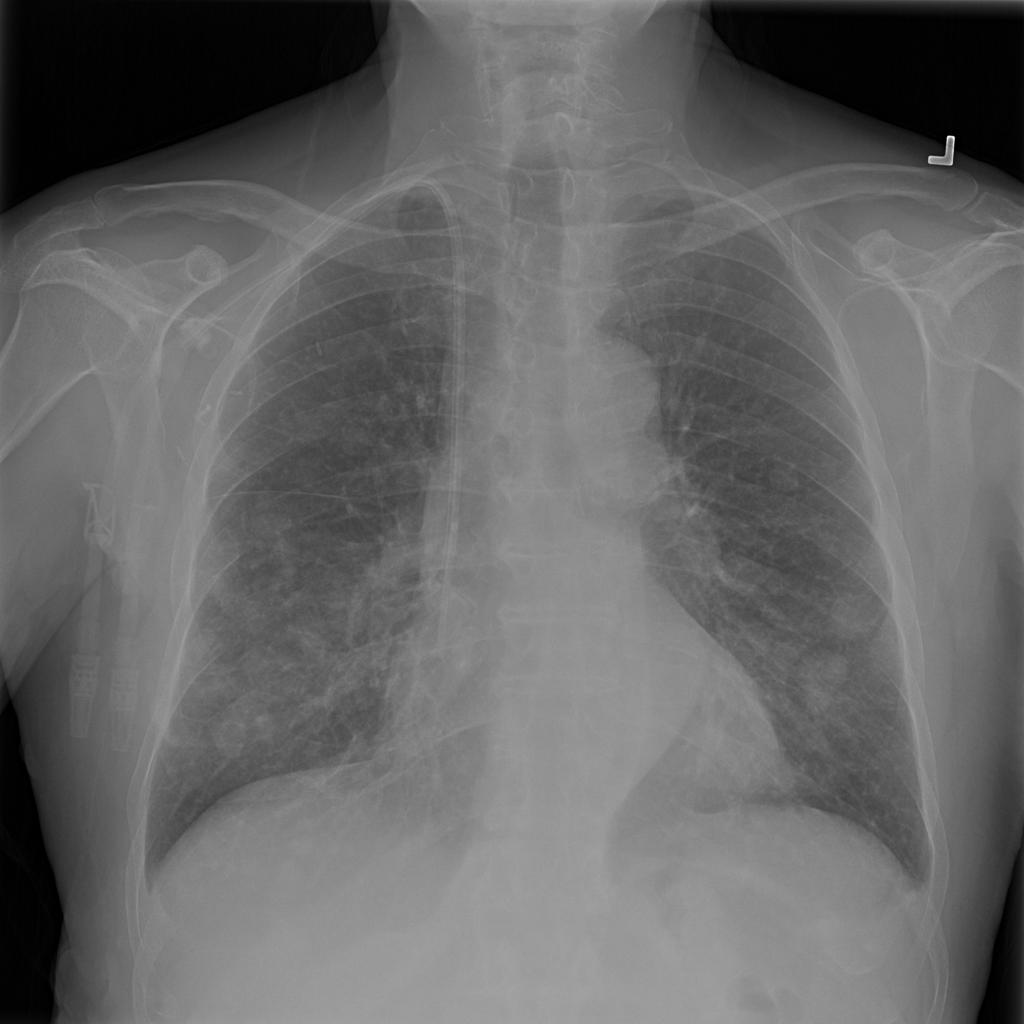nodule: (788, 639, 862, 718), (228, 634, 304, 705), (234, 493, 311, 559), (819, 577, 891, 647), (203, 697, 273, 769), (762, 451, 814, 500)
